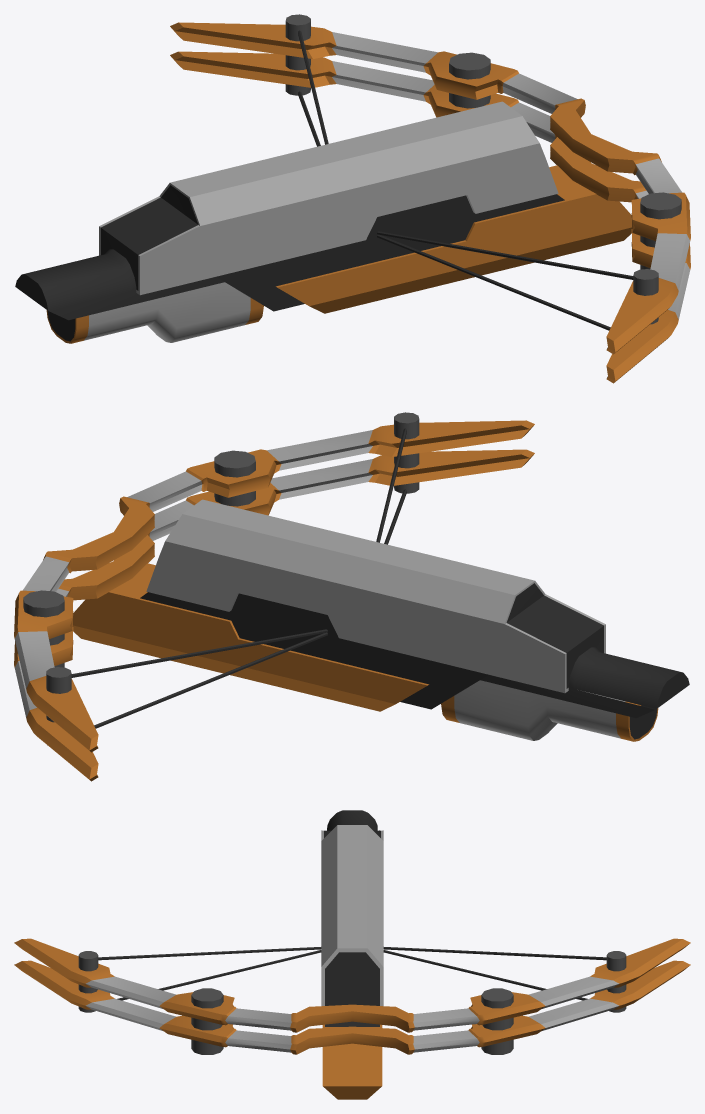
Rendered from quaternius-modular-sci-fi-guns-body-crossbow-2.glb.
3 views of the same model, one above another, from view 1: azimuth 30°, elevation 25°; view 2: azimuth 150°, elevation 25°; view 3: azimuth 270°, elevation 25° (orthographic). The views are drawn at different scales.
Visible parts, largest first — view 1: Body_Crossbow_2; view 2: Body_Crossbow_2; view 3: Body_Crossbow_2.
Boxes of the visible parts, x1,y1,x2,y2 form: Body_Crossbow_2: (15,14,690,383); Body_Crossbow_2: (14,412,689,781); Body_Crossbow_2: (14,810,690,1099).
Bounding box in the file's own units: 1.47 × 0.3561 × 1.92.
